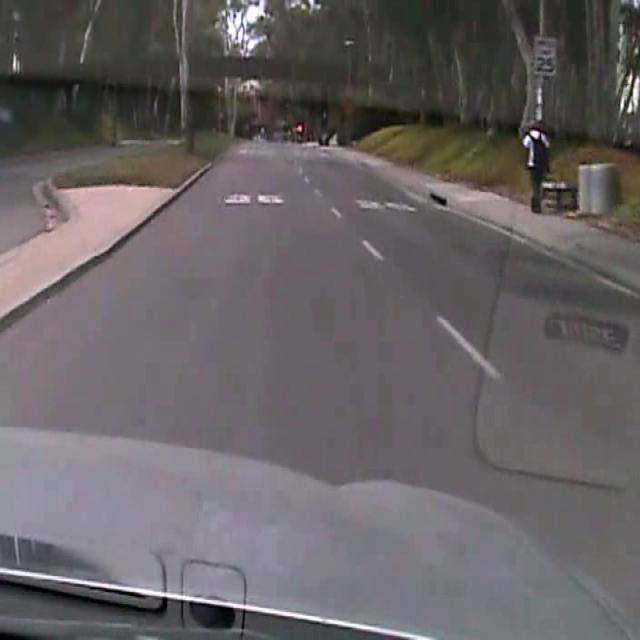speedLimit25: (533, 35, 557, 76)
